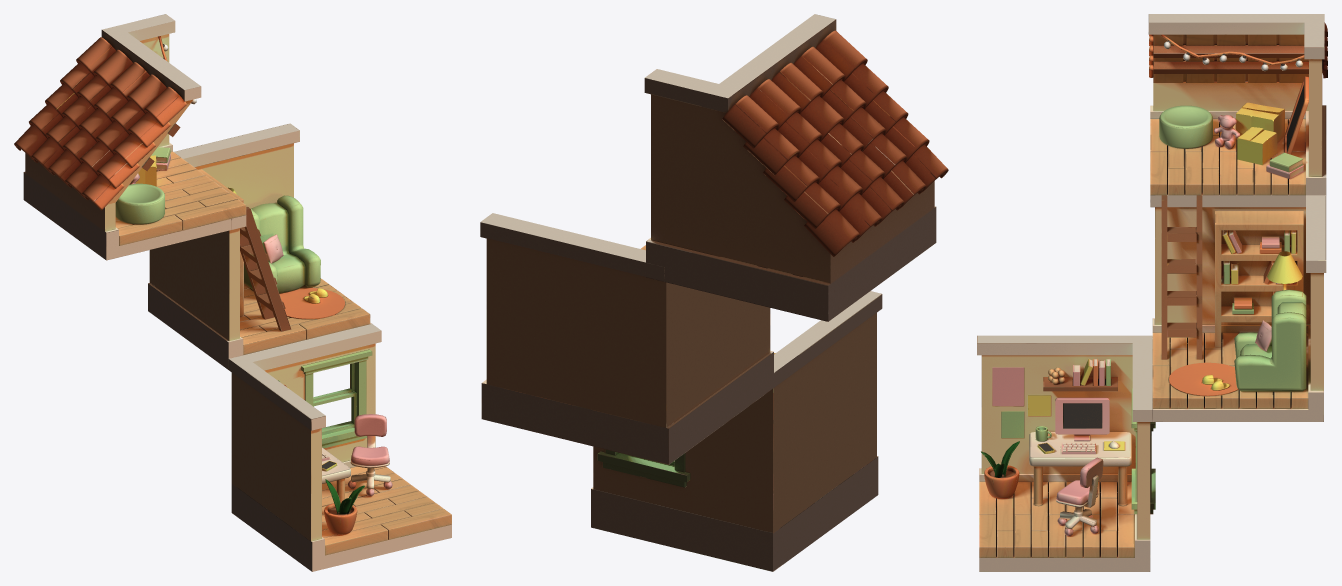
The model's file is WawaOffice.glb.
The picture shows the model from 3 angles, left to right: view 1: azimuth 30°, elevation 25°; view 2: azimuth 150°, elevation 25°; view 3: azimuth 270°, elevation 25°; orthographic projection. The views are drawn at different scales.
Visible parts, largest first — view 1: 01_office, 03_attic, 02_library; view 2: 03_attic, 02_library, 01_office; view 3: 01_office, 02_library, 03_attic.
Boxes of the visible parts, <box> form: 01_office: <box>228,324,451,571</box>; 03_attic: <box>14,14,246,260</box>; 02_library: <box>148,123,371,369</box>; 03_attic: <box>644,14,948,321</box>; 02_library: <box>480,213,773,464</box>; 01_office: <box>591,291,882,571</box>; 01_office: <box>977,335,1155,571</box>; 02_library: <box>1152,195,1326,421</box>; 03_attic: <box>1148,14,1327,207</box>.
Bounding box in the file's own units: 4.42 × 6.54 × 4.51.
Materials: 3 (3 with a texture image).
